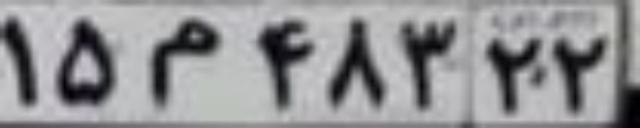1: (2, 17, 36, 105)
2: (481, 36, 540, 110), (549, 34, 603, 111)
3: (397, 16, 458, 110)
4: (257, 18, 312, 109)
5: (57, 18, 112, 103)
8: (327, 18, 382, 106)
mim: (147, 20, 217, 106)
